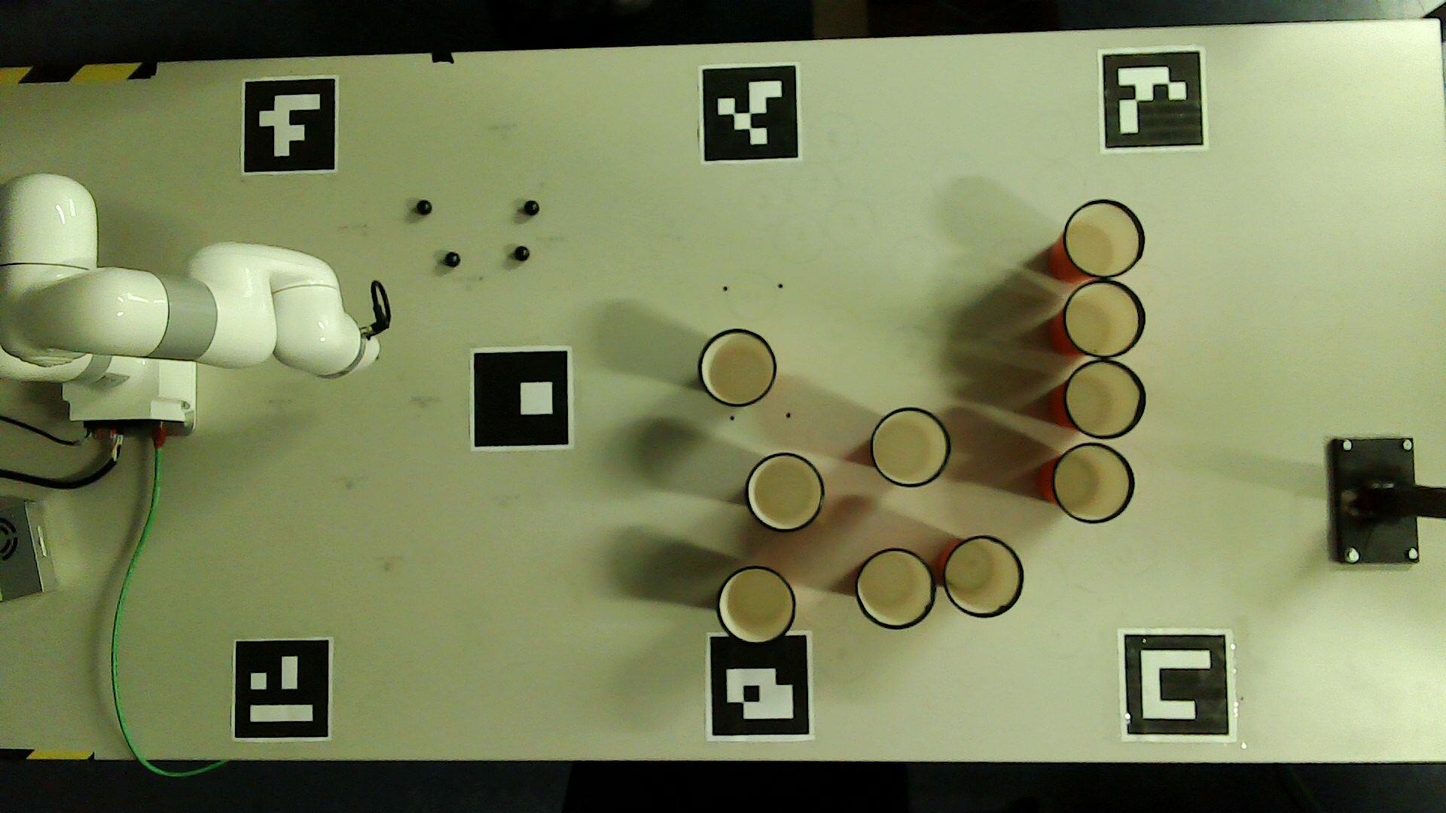ball: (525, 200, 539, 216), (417, 201, 432, 214), (446, 253, 459, 266), (516, 247, 528, 259)
cup: (857, 549, 935, 629), (872, 408, 949, 485), (1055, 444, 1132, 521), (1066, 361, 1144, 437), (718, 567, 794, 644), (1066, 201, 1142, 277), (700, 330, 775, 406), (1066, 282, 1142, 357), (946, 538, 1020, 615), (749, 454, 822, 530)
